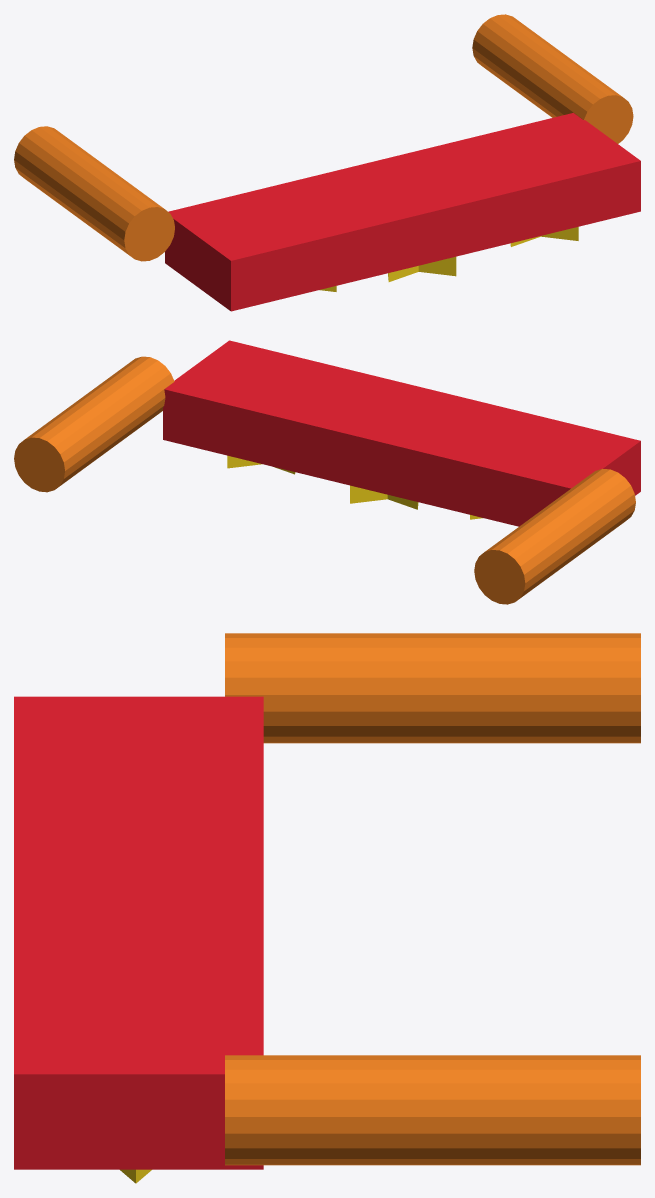
Rendered from tinker.obj.
The picture shows the model from 3 angles, top to bottom: view 1: azimuth 30°, elevation 25°; view 2: azimuth 150°, elevation 25°; view 3: azimuth 270°, elevation 25°; orthographic projection. The views are drawn at different scales.
Parts seen in each view (by area): view 1: group_0_15277357, group_0_16089887, group_0_16768282; view 2: group_0_15277357, group_0_16089887, group_0_16768282; view 3: group_0_15277357, group_0_16089887.
Boxes of the visible parts, left/top/right/bottom form: group_0_15277357: left=165, top=113, right=640, bottom=311; group_0_16089887: left=14, top=14, right=633, bottom=261; group_0_16768282: left=319, top=227, right=578, bottom=291; group_0_15277357: left=163, top=340, right=640, bottom=526; group_0_16089887: left=14, top=356, right=635, bottom=604; group_0_16768282: left=227, top=455, right=482, bottom=519; group_0_15277357: left=14, top=696, right=263, bottom=1169; group_0_16089887: left=225, top=633, right=640, bottom=1165.
Bounding box in the file's own units: 200 × 35 × 113.
